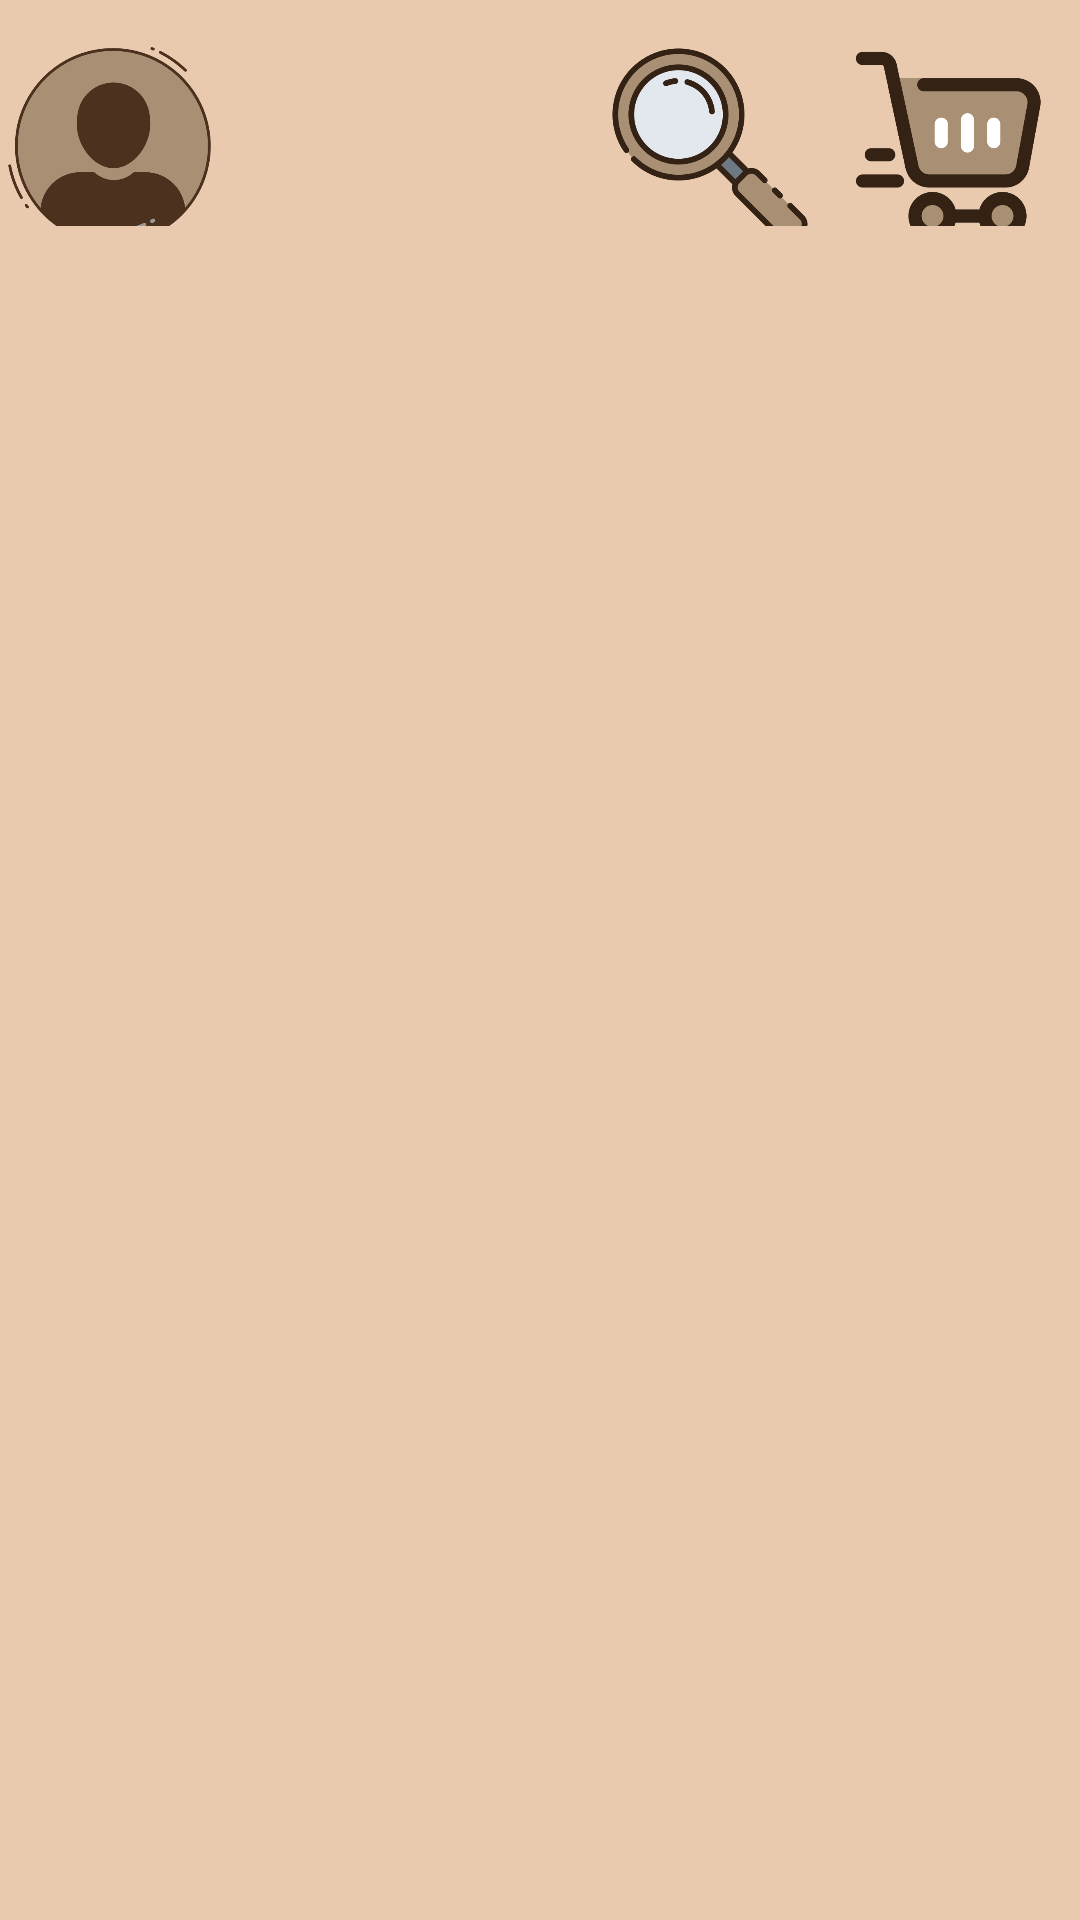

Named icons in this screenshot (1080x1920) and their centers, (x,y):
cart: (948,139)
searchproduct: (710,137)
userprofile: (109,136)
